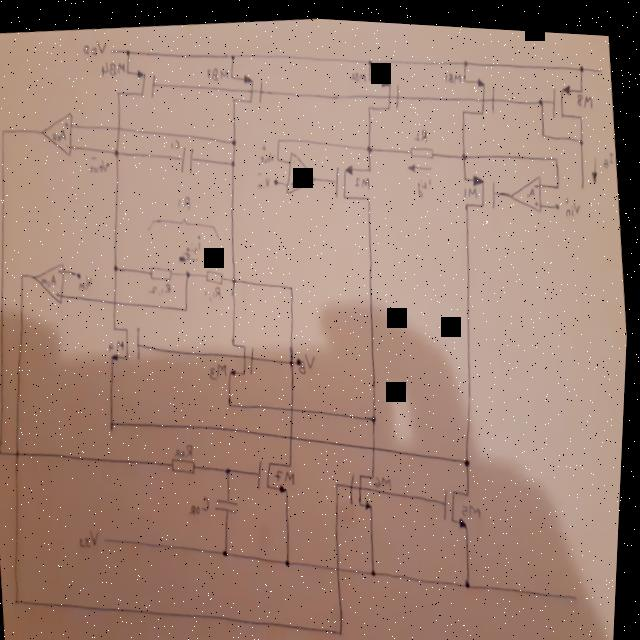capacitor: (216, 491, 245, 513), (178, 141, 196, 172)
crossover: (336, 555, 349, 571), (115, 120, 123, 130), (290, 427, 298, 436), (112, 295, 119, 305), (17, 447, 24, 457), (373, 437, 380, 446), (291, 401, 297, 408)
junction: (465, 448, 474, 462), (112, 144, 121, 155), (287, 279, 296, 290), (111, 416, 118, 430), (226, 542, 234, 554), (374, 561, 382, 572), (536, 88, 544, 99), (467, 571, 475, 582), (185, 265, 193, 276), (17, 594, 25, 605), (230, 133, 238, 143), (19, 269, 27, 279), (366, 138, 373, 149), (372, 407, 379, 418), (577, 55, 584, 66), (288, 552, 295, 563), (227, 461, 234, 472), (290, 352, 297, 363), (113, 261, 121, 270), (460, 145, 468, 154), (336, 474, 344, 483), (552, 146, 560, 155), (229, 154, 236, 164), (124, 44, 131, 54), (229, 47, 236, 57), (0, 446, 7, 456), (228, 395, 236, 403), (577, 129, 584, 138), (461, 51, 468, 60), (232, 272, 239, 281), (0, 126, 7, 135), (342, 622, 349, 631), (554, 173, 561, 182), (366, 52, 373, 61), (185, 302, 191, 309), (539, 123, 546, 129), (275, 151, 281, 157), (277, 133, 282, 138)
resistor: (173, 451, 202, 474), (150, 261, 176, 280), (409, 138, 435, 155), (206, 264, 226, 282)
terminal: (553, 192, 563, 203), (272, 172, 279, 182), (105, 533, 112, 541), (77, 269, 84, 277), (298, 352, 303, 361), (577, 584, 583, 591), (108, 45, 113, 52), (597, 59, 602, 65), (580, 174, 585, 180)
text: (99, 55, 128, 77), (79, 35, 108, 56), (182, 229, 204, 256), (190, 491, 215, 514), (87, 150, 111, 173), (298, 347, 319, 372), (80, 526, 104, 547), (415, 166, 434, 192), (276, 462, 300, 482), (148, 278, 174, 295), (463, 494, 486, 513), (258, 138, 277, 161), (347, 62, 369, 81), (206, 62, 229, 79), (211, 357, 231, 376), (204, 280, 224, 299), (175, 439, 197, 456), (255, 165, 272, 187), (575, 82, 594, 101), (376, 466, 396, 483), (411, 121, 429, 139), (565, 191, 582, 209), (354, 169, 372, 186), (109, 335, 127, 352), (601, 142, 616, 162), (443, 63, 462, 78), (463, 178, 479, 194), (80, 272, 94, 290), (177, 191, 192, 207), (51, 125, 67, 140), (42, 272, 58, 286), (296, 165, 309, 178), (169, 135, 181, 147), (526, 179, 536, 192), (290, 152, 298, 160), (564, 188, 571, 197), (289, 175, 296, 184), (533, 191, 540, 200), (58, 266, 65, 274), (56, 289, 64, 296), (533, 173, 540, 181), (63, 118, 69, 125), (66, 140, 71, 146)
transistor: (330, 155, 377, 202), (459, 162, 503, 209), (111, 62, 160, 104), (257, 451, 302, 495), (457, 67, 500, 113), (545, 72, 587, 118), (107, 318, 149, 363), (362, 67, 403, 109), (225, 65, 268, 105), (441, 478, 477, 524), (349, 465, 382, 508), (228, 335, 261, 376)
